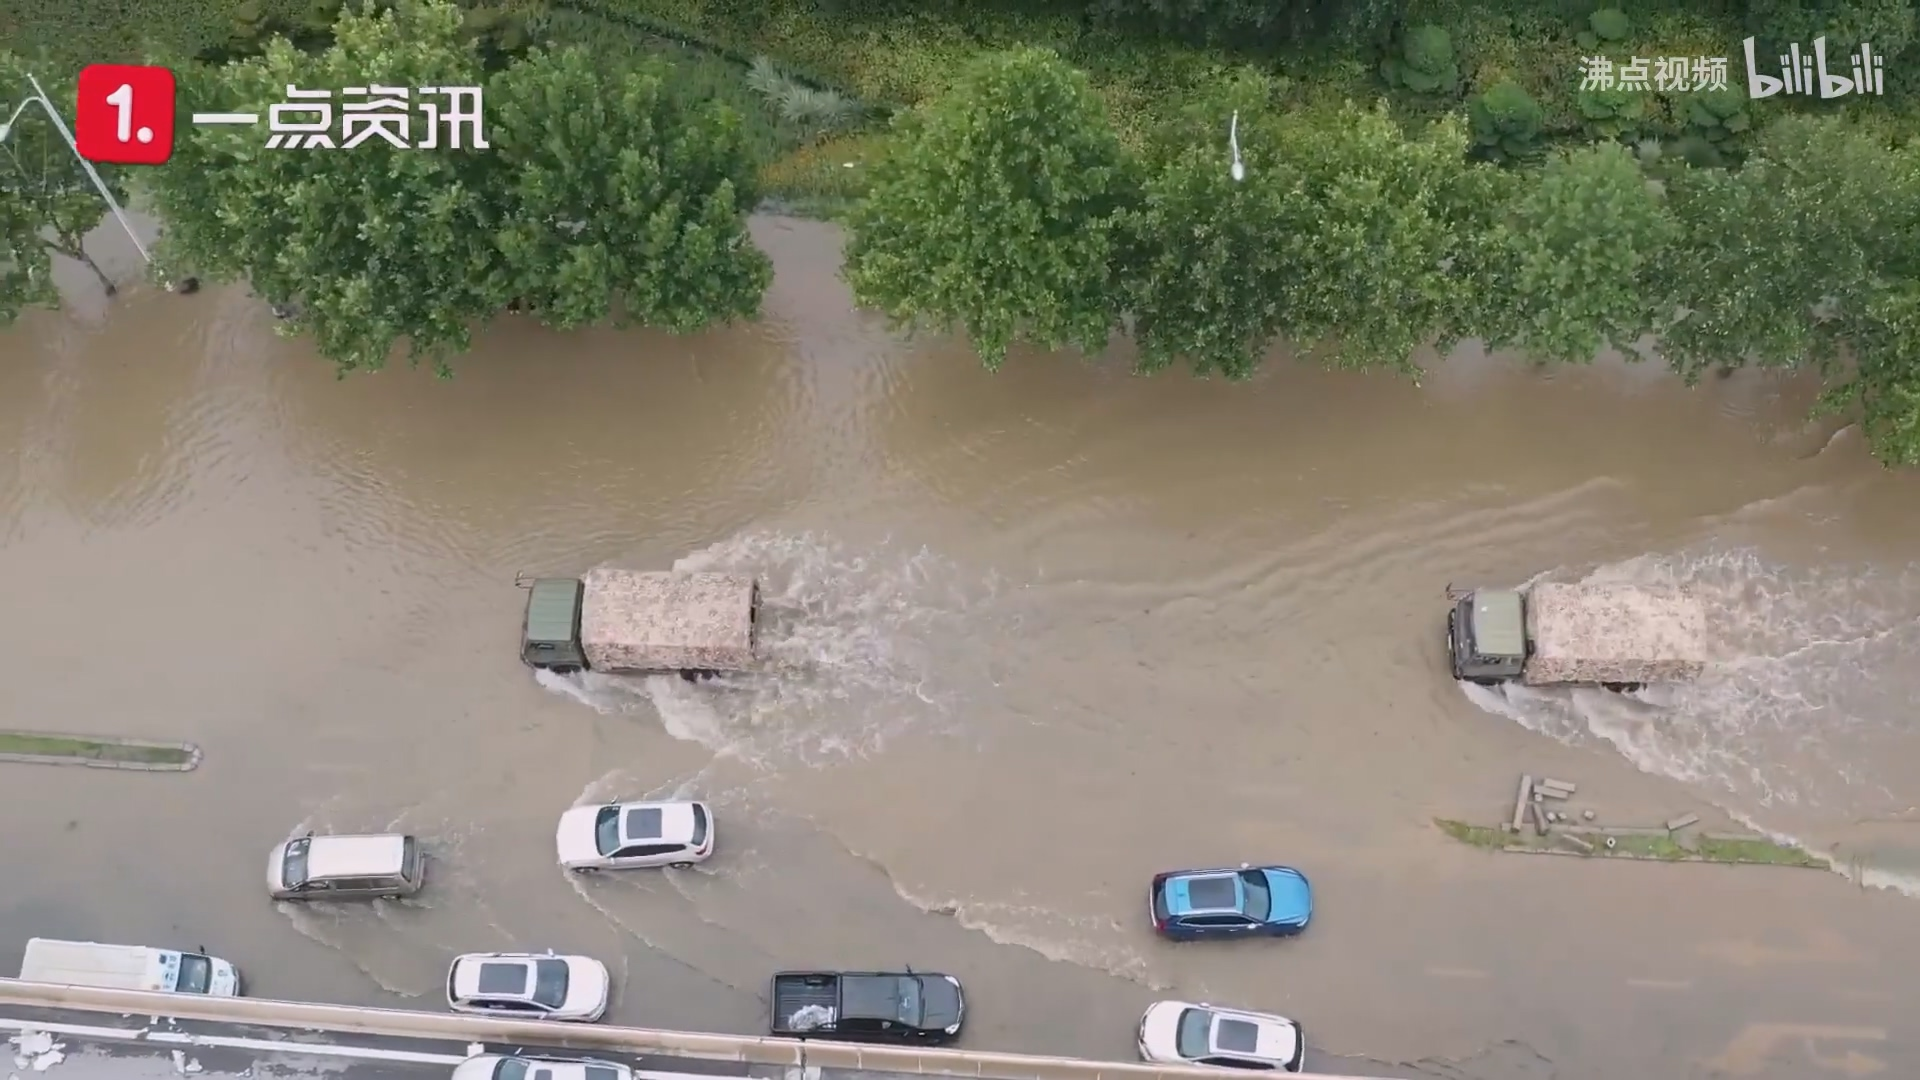puddle: (15, 301, 1909, 1073)
